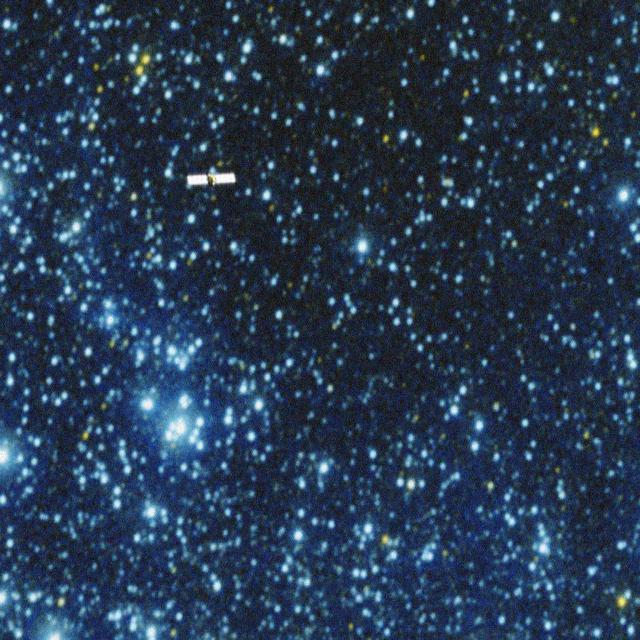satellite: (180, 163, 251, 195)
